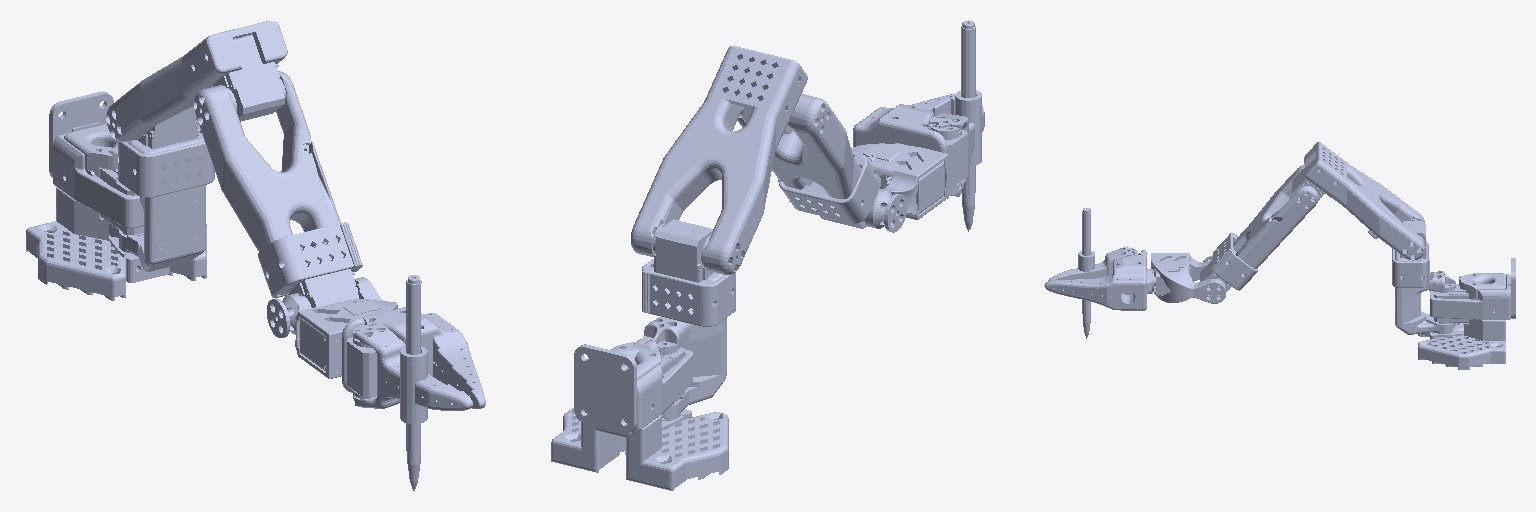
The robot description file, URDF, robot "so_arm100_write":
<?xml version="1.0" encoding="utf-8"?>
<!-- This URDF was automatically created by SolidWorks to URDF Exporter! Originally created by [author] ([email redacted]) 
     Commit Version: 1.6.0-4-g7f85cfe  Build Version: 1.6.7995.38578
     For more information, please see http://wiki.ros.org/sw_urdf_exporter -->
<robot
  name="so_arm100_write">
  <link
    name="base_link">
    <inertial>
      <origin
        xyz="-2.3055E-06 -0.01766 0.031114"
        rpy="0 0 0" />
      <mass
        value="0.19375" />
      <inertia
        ixx="0.00013769"
        ixy="-4.2847E-09"
        ixz="2.1032E-08"
        iyy="0.00014499"
        iyz="-2.2644E-05"
        izz="0.00016868" />
    </inertial>
    <visual>
      <origin
        xyz="0 0 0"
        rpy="0 0 0" />
      <geometry>
        <mesh
          filename="package://arm_description/meshes/base_link.STL" />
      </geometry>
      <material
        name="">
        <color
          rgba="0.79216 0.81961 0.93333 1" />
      </material>
    </visual>
    <collision>
      <origin
        xyz="0 0 0"
        rpy="0 0 0" />
      <geometry>
        <mesh
          filename="package://arm_description/meshes/base_link.STL" />
      </geometry>
    </collision>
  </link>
  <link
    name="shoulder_link">
    <inertial>
      <origin
        xyz="-9.12316731584547E-05 0.0453803334798309 0.0312407304094353"
        rpy="0 0 0" />
      <mass
        value="0.118647318561975" />
      <inertia
        ixx="5.90249308656609E-05"
        ixy="4.9080052600188E-07"
        ixz="-5.90451824019598E-08"
        iyy="3.21184663530608E-05"
        iyz="-4.58026206261482E-06"
        izz="5.85899047238746E-05" />
    </inertial>
    <visual>
      <origin
        xyz="0 0 0"
        rpy="0 0 0" />
      <geometry>
        <mesh
          filename="package://arm_description/meshes/shoulder_link.STL" />
      </geometry>
      <material
        name="">
        <color
          rgba="0.792156862745098 0.819607843137255 0.933333333333333 1" />
      </material>
    </visual>
    <collision>
      <origin
        xyz="0 0 0"
        rpy="0 0 0" />
      <geometry>
        <mesh
          filename="package://arm_description/meshes/shoulder_link.STL" />
      </geometry>
    </collision>
  </link>
  <joint
    name="shoulder_pan_joint"
    type="revolute">
    <origin
      xyz="0 -0.0452 0.0305"
      rpy="1.5708 0 0" />
    <parent
      link="base_link" />
    <child
      link="shoulder_link" />
    <axis
      xyz="0 1 0" />
    <limit
      lower="-1.57"
      upper="1.57"
      effort="100"
      velocity="10" />
  </joint>
  <link
    name="upper_arm_link">
    <inertial>
      <origin
        xyz="0.0156827940119797 0.0427320224136673 0.0557572855175068"
        rpy="0 0 0" />
      <mass
        value="0.162409410667205" />
      <inertia
        ixx="0.000167153316638548"
        ixy="6.77075319463091E-07"
        ixz="7.88215440511137E-07"
        iyy="0.000152074160609916"
        iyz="-7.08238732566533E-05"
        izz="0.000131401089309618" />
    </inertial>
    <visual>
      <origin
        xyz="0 0 0"
        rpy="0 0 0" />
      <geometry>
        <mesh
          filename="package://arm_description/meshes/upper_arm_link.STL" />
      </geometry>
      <material
        name="">
        <color
          rgba="0.792156862745098 0.819607843137255 0.933333333333333 1" />
      </material>
    </visual>
    <collision>
      <origin
        xyz="0 0 0"
        rpy="0 0 0" />
      <geometry>
        <mesh
          filename="package://arm_description/meshes/upper_arm_link.STL" />
      </geometry>
    </collision>
  </link>
  <joint
    name="shoulder_lift_joint"
    type="revolute">
    <origin
      xyz="-0.0158000000000001 0.0885000000000001 0.0306"
      rpy="0 0 0" />
    <parent
      link="shoulder_link" />
    <child
      link="upper_arm_link" />
    <axis
      xyz="-1 0 0" />
    <limit
      lower="-1.57"
      upper="1.57"
      effort="100"
      velocity="10" />
  </joint>
  <link
    name="forearm_link">
    <inertial>
      <origin
        xyz="-0.0193960366107941 -0.0579469913285191 0.0504221037322429"
        rpy="0 0 0" />
      <mass
        value="0.147967791829467" />
      <inertia
        ixx="0.000105334009302061"
        ixy="9.08952403636596E-06"
        ixz="-7.40110454860769E-06"
        iyy="8.54418962703684E-05"
        iyz="4.29705030950805E-05"
        izz="0.000104198951098453" />
    </inertial>
    <visual>
      <origin
        xyz="0 0 0"
        rpy="0 0 0" />
      <geometry>
        <mesh
          filename="package://arm_description/meshes/forearm_link.STL" />
      </geometry>
      <material
        name="">
        <color
          rgba="0.792156862745098 0.819607843137255 0.933333333333333 1" />
      </material>
    </visual>
    <collision>
      <origin
        xyz="0 0 0"
        rpy="0 0 0" />
      <geometry>
        <mesh
          filename="package://arm_description/meshes/forearm_link.STL" />
      </geometry>
    </collision>
  </link>
  <joint
    name="elbow_joint"
    type="revolute">
    <origin
      xyz="0.0317 0.050909 0.10423"
      rpy="0 0 0" />
    <parent
      link="upper_arm_link" />
    <child
      link="forearm_link" />
    <axis
      xyz="-1 0 0" />
    <limit
      lower="-1.57"
      upper="1.57"
      effort="100"
      velocity="10" />
  </joint>
  <link
    name="wrist_1_link">
    <inertial>
      <origin
        xyz="-0.0246265312098483 -2.34622220739861E-05 0.0352278998818427"
        rpy="0 0 0" />
      <mass
        value="0.0661320665571637" />
      <inertia
        ixx="1.95717492021294E-05"
        ixy="5.20090674511763E-09"
        ixz="6.62714409160353E-07"
        iyy="3.45401433389061E-05"
        iyz="-4.09549066400695E-08"
        izz="2.38028417058412E-05" />
    </inertial>
    <visual>
      <origin
        xyz="0 0 0"
        rpy="0 0 0" />
      <geometry>
        <mesh
          filename="package://arm_description/meshes/wrist_1_link.STL" />
      </geometry>
      <material
        name="">
        <color
          rgba="0.792156862745098 0.819607843137255 0.933333333333333 1" />
      </material>
    </visual>
    <collision>
      <origin
        xyz="0 0 0"
        rpy="0 0 0" />
      <geometry>
        <mesh
          filename="package://arm_description/meshes/wrist_1_link.STL" />
      </geometry>
    </collision>
  </link>
  <joint
    name="wrist_pitch_joint"
    type="revolute">
    <origin
      xyz="0 -0.099997 0.090695"
      rpy="0 0 0" />
    <parent
      link="forearm_link" />
    <child
      link="wrist_1_link" />
    <axis
      xyz="-1 0 0" />
    <limit
      lower="-1.57"
      upper="1.57"
      effort="100"
      velocity="10" />
  </joint>
  <link
    name="wrist_2_link">
    <inertial>
      <origin
        xyz="0.00553729748428378 0.000450839244584361 0.0295127614083582"
        rpy="0 0 0" />
      <mass
        value="0.0931646506349648" />
      <inertia
        ixx="4.34101625638855E-05"
        ixy="5.95959164624345E-07"
        ixz="-7.09851524632702E-06"
        iyy="5.02748039720235E-05"
        iyz="1.40805154471282E-07"
        izz="3.04999659487805E-05" />
    </inertial>
    <visual>
      <origin
        xyz="0 0 0"
        rpy="0 0 0" />
      <geometry>
        <mesh
          filename="package://arm_description/meshes/wrist_2_link.STL" />
      </geometry>
      <material
        name="">
        <color
          rgba="0.792156862745098 0.819607843137255 0.933333333333333 1" />
      </material>
    </visual>
    <collision>
      <origin
        xyz="0 0 0"
        rpy="0 0 0" />
      <geometry>
        <mesh
          filename="package://arm_description/meshes/wrist_2_link.STL" />
      </geometry>
    </collision>
  </link>
  <joint
    name="wrist_roll_joint"
    type="revolute">
    <origin
      xyz="-0.0161 0 0.0586"
      rpy="0 0 0" />
    <parent
      link="wrist_1_link" />
    <child
      link="wrist_2_link" />
    <axis
      xyz="0 0 1" />
    <limit
      lower="-1.57"
      upper="1.57"
      effort="100"
      velocity="10" />
  </joint>
  <link
    name="jaw_link">
    <inertial>
      <origin
        xyz="0.00683341078896194 0.0157219157402943 0.0319538151911046"
        rpy="0 0 0" />
      <mass
        value="0.0254751555792519" />
      <inertia
        ixx="1.34491906292739E-05"
        ixy="-4.72911683430335E-08"
        ixz="-1.85557694578499E-06"
        iyy="9.48711723454467E-06"
        iyz="-3.10741088225948E-07"
        izz="5.96578705659465E-06" />
    </inertial>
    <visual>
      <origin
        xyz="0 0 0"
        rpy="0 0 0" />
      <geometry>
        <mesh
          filename="package://arm_description/meshes/jaw_link.STL" />
      </geometry>
      <material
        name="">
        <color
          rgba="0.792156862745098 0.819607843137255 0.933333333333333 1" />
      </material>
    </visual>
    <collision>
      <origin
        xyz="0 0 0"
        rpy="0 0 0" />
      <geometry>
        <mesh
          filename="package://arm_description/meshes/jaw_link.STL" />
      </geometry>
    </collision>
  </link>
  <joint
    name="jaw_joint"
    type="revolute">
    <origin
      xyz="-0.0202 -0.0155 0.0259"
      rpy="0 0 0" />
    <parent
      link="wrist_2_link" />
    <child
      link="jaw_link" />
    <axis
      xyz="0 1 0" />
    <limit
      lower="-1.57"
      upper="1.57"
      effort="100"
      velocity="10" />
  </joint>
  <link
    name="pen_point_link">
    <inertial>
      <origin
        xyz="-1.4051E-16 -4.4409E-16 -0.000825"
        rpy="0 0 0" />
      <mass
        value="1.7959E-07" />
      <inertia
        ixx="8.8001E-15"
        ixy="-3.4458E-31"
        ixz="2.0318E-32"
        iyy="8.8001E-15"
        iyz="5.2352E-32"
        izz="8.8001E-15" />
    </inertial>
    <visual>
      <origin
        xyz="0 0 0"
        rpy="0 0 0" />
      <geometry>
        <mesh
          filename="package://arm_description/meshes/pen_point_link.STL" />
      </geometry>
      <material
        name="">
        <color
          rgba="0.21176 1 0.59608 1" />
      </material>
    </visual>
    <collision>
      <origin
        xyz="0 0 0"
        rpy="0 0 0" />
      <geometry>
        <mesh
          filename="package://arm_description/meshes/pen_point_link.STL" />
      </geometry>
    </collision>
  </link>
  <joint
    name="pen_point_joint"
    type="fixed">
    <origin
      xyz="0.0071456 -0.051425 0.040525"
      rpy="-1.5708 0 0" />
    <parent
      link="jaw_link" />
    <child
      link="pen_point_link" />
    <axis
      xyz="0 0 0" />
  </joint>
</robot>

--- What the picture shows (computed from the rendered views, not written in the file) ---
The picture shows the robot from 3 angles, left to right: view 1: azimuth 30°, elevation 25°; view 2: azimuth 150°, elevation 25°; view 3: azimuth 270°, elevation 25°; orthographic projection.
Robot: so_arm100_write — 8 links, 7 joints (6 revolute, 1 fixed); root link base_link; default pose: all joints at 0.
Links seen in each view (by area): view 1: forearm_link, base_link, shoulder_link, upper_arm_link, jaw_link, wrist_2_link, wrist_1_link; view 2: upper_arm_link, base_link, shoulder_link, forearm_link, wrist_1_link, wrist_2_link, jaw_link; view 3: base_link, upper_arm_link, forearm_link, shoulder_link, wrist_2_link, wrist_1_link, jaw_link.
Link boxes in pixels (x1=…): forearm_link: x1=194, y1=71, x2=362, y2=307; base_link: x1=26, y1=91, x2=206, y2=300; shoulder_link: x1=118, y1=106, x2=214, y2=271; upper_arm_link: x1=106, y1=21, x2=287, y2=141; jaw_link: x1=353, y1=275, x2=472, y2=490; wrist_2_link: x1=342, y1=307, x2=485, y2=408; wrist_1_link: x1=267, y1=277, x2=397, y2=378; upper_arm_link: x1=631, y1=46, x2=807, y2=274; base_link: x1=551, y1=339, x2=728, y2=490; shoulder_link: x1=642, y1=219, x2=735, y2=420; forearm_link: x1=737, y1=94, x2=880, y2=228; wrist_1_link: x1=851, y1=143, x2=948, y2=232; wrist_2_link: x1=853, y1=94, x2=967, y2=189; jaw_link: x1=929, y1=20, x2=984, y2=231; base_link: x1=1418, y1=258, x2=1515, y2=369; upper_arm_link: x1=1292, y1=142, x2=1424, y2=260; forearm_link: x1=1200, y1=165, x2=1318, y2=291; shoulder_link: x1=1392, y1=219, x2=1455, y2=334; wrist_2_link: x1=1044, y1=250, x2=1152, y2=310; wrist_1_link: x1=1151, y1=253, x2=1225, y2=303; jaw_link: x1=1048, y1=208, x2=1137, y2=338.
Bounding box of the posed robot: 0.1109 × 0.4621 × 0.211 m (x, y, z).
8 mesh visuals loaded from 8 distinct referenced files (8 binary STL).